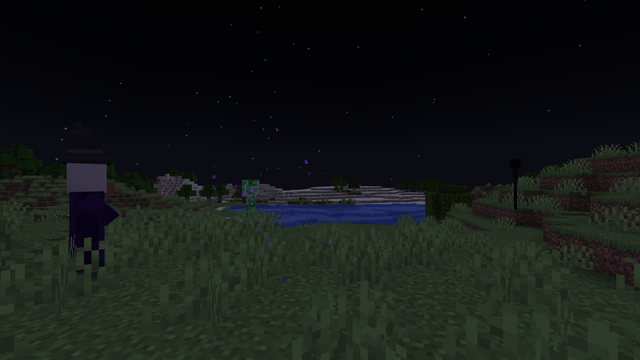creepers: (237, 177, 263, 234)
endermens: (506, 157, 523, 208)
sorcieres: (50, 158, 119, 287)
